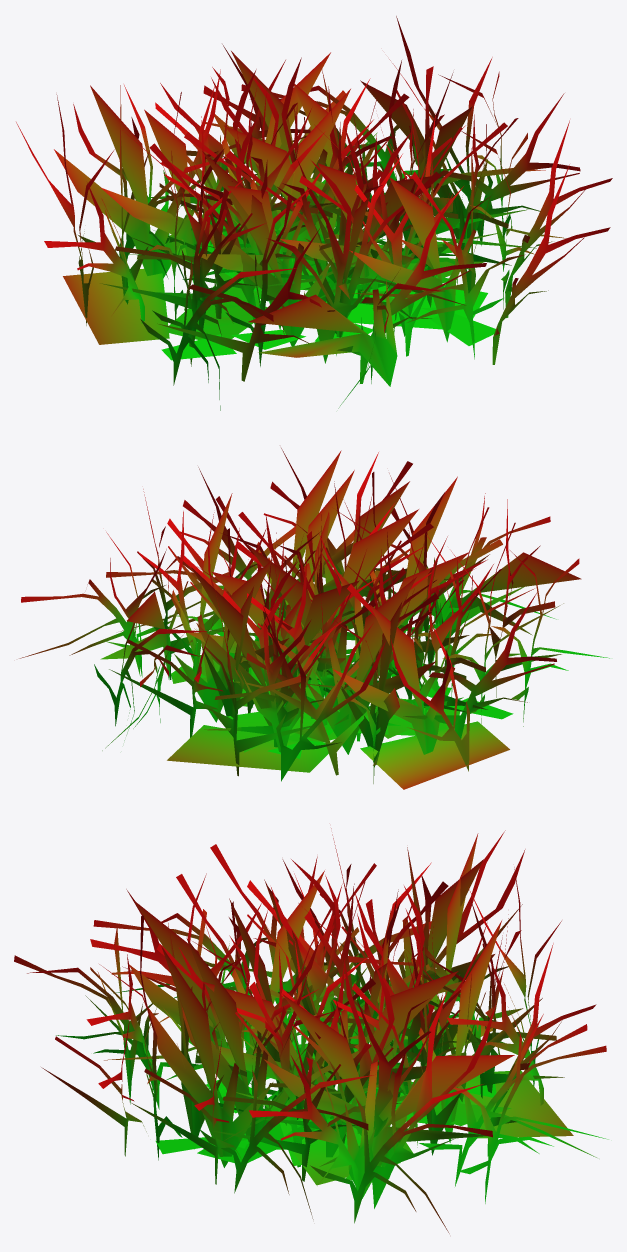
Rendered from Kikuyu Grass_LOD4_Var7_wiljearqx.fbx.
3 views of the same model, one above another, from view 1: azimuth 30°, elevation 25°; view 2: azimuth 150°, elevation 25°; view 3: azimuth 270°, elevation 25° (orthographic). The views are drawn at different scales.
Parts seen in each view (by area): view 1: _lxrw_Var7_LOD4; view 2: _lxrw_Var7_LOD4; view 3: _lxrw_Var7_LOD4.
Part boxes in pixels (x1,y1,x2,y2): _lxrw_Var7_LOD4: (16,16,612,410); _lxrw_Var7_LOD4: (19,448,609,789); _lxrw_Var7_LOD4: (14,828,608,1233).
Bounding box in the file's own units: 92.12 × 36.2 × 85.4.
